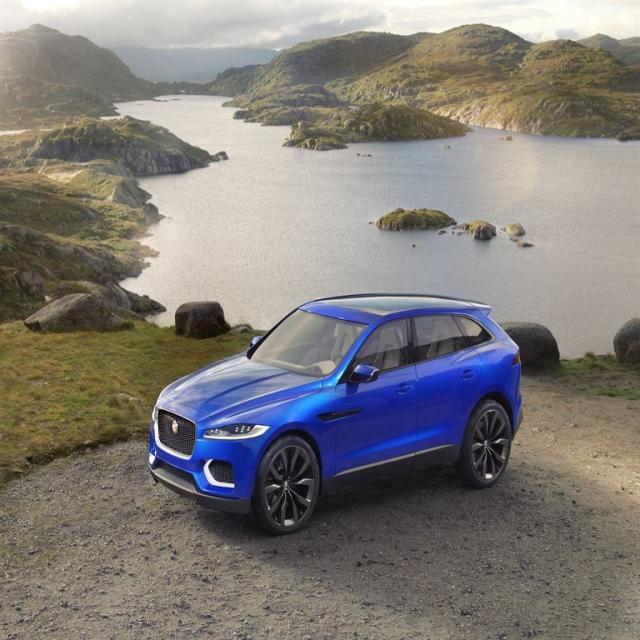Sport-Utility-Vehicle: (149, 284, 524, 538)
